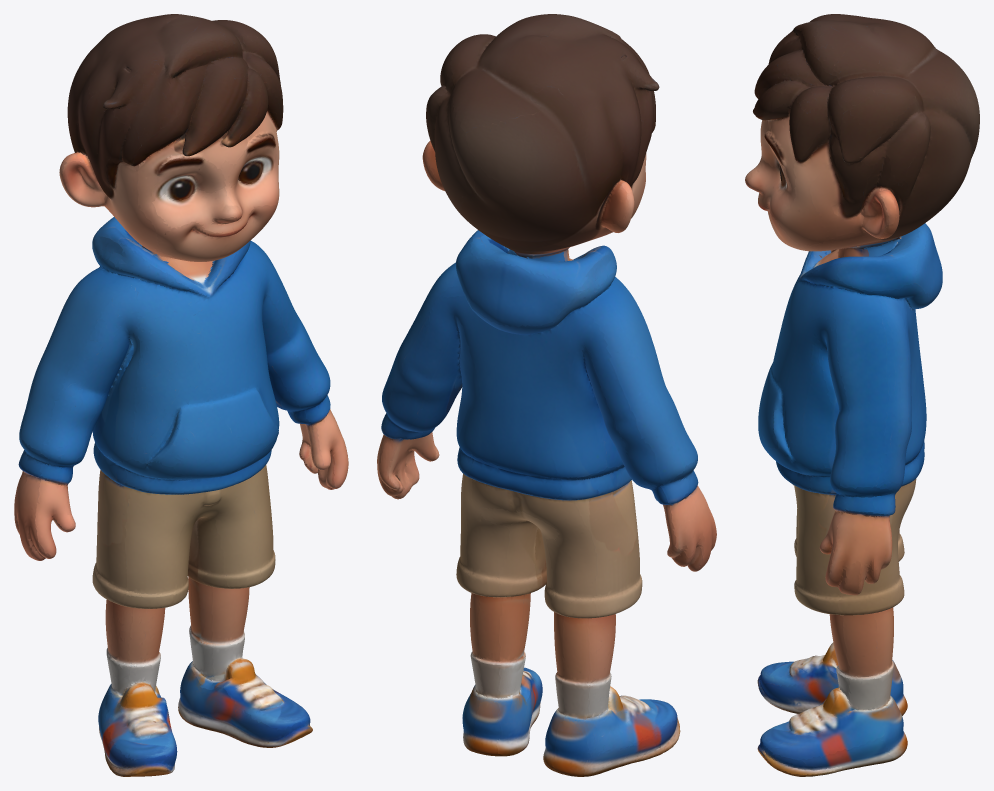
Rendered from Boy.glb.
3 views of the same model, side by side, from view 1: azimuth 30°, elevation 25°; view 2: azimuth 150°, elevation 25°; view 3: azimuth 270°, elevation 25° (orthographic). The views are drawn at different scales.
Parts seen in each view (by area): view 1: geometry_0; view 2: geometry_0; view 3: geometry_0.
Part boxes in pixels (x1,y1,x2,y2): geometry_0: (14,14,348,776); geometry_0: (377,14,716,776); geometry_0: (745,14,979,776).
Size of the model in its own units: 0.0753 by 0.16 by 0.0482.
Materials: 1 (1 with a texture image).
